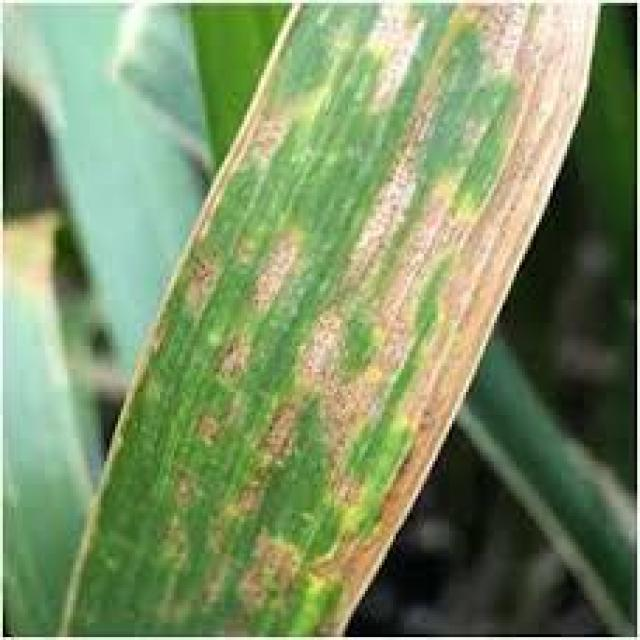leaf_blight: (59, 3, 595, 634)
